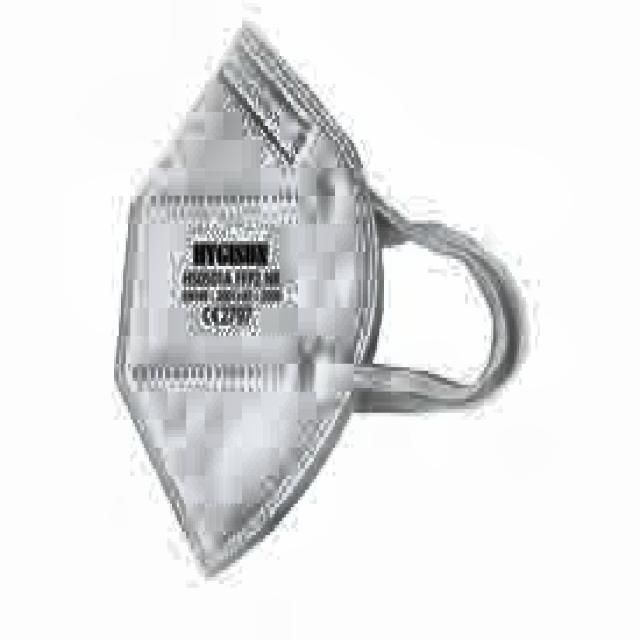trash: (112, 21, 519, 581)
